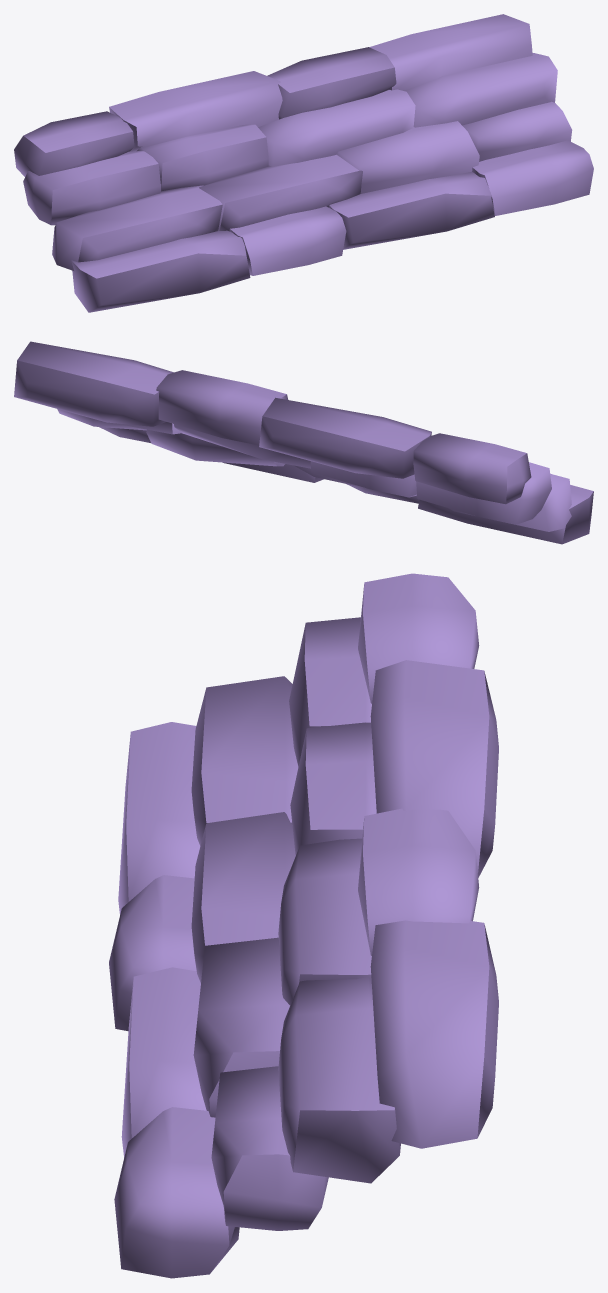
File: stairs_stone.fbx
3 views of the same model, one above another, from view 1: azimuth 30°, elevation 25°; view 2: azimuth 150°, elevation 25°; view 3: azimuth 270°, elevation 25° (orthographic). The views are drawn at different scales.
Visible parts, largest first — view 1: Cube.128; view 2: Cube.128; view 3: Cube.128.
Boxes of the visible parts, x1=… form: Cube.128: x1=14, y1=14, x2=593, y2=312; Cube.128: x1=14, y1=341, x2=593, y2=544; Cube.128: x1=109, y1=573, x2=498, y2=1278.
Size of the model in its own units: 5.33 by 1.23 by 1.78.
